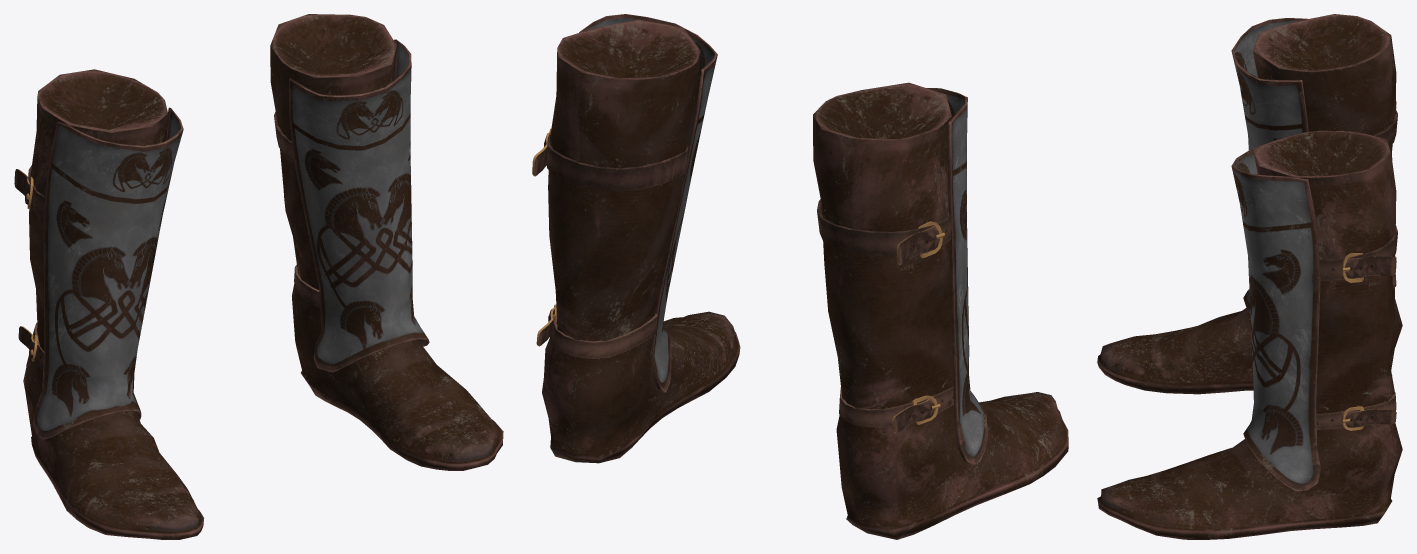
The model's file is cts_rohan_royal_guard_boots.fbx.
3 renders of one model, left to right at view 1: azimuth 30°, elevation 25°; view 2: azimuth 150°, elevation 25°; view 3: azimuth 270°, elevation 25°, orthographic. The views are drawn at different scales.
Parts seen in each view (by area): view 1: cts_rohan_royal_guard_boots; view 2: cts_rohan_royal_guard_boots; view 3: cts_rohan_royal_guard_boots.
Boxes of the visible parts, box(x1,y1,x2,y2) form: cts_rohan_royal_guard_boots: box(14, 14, 503, 539); cts_rohan_royal_guard_boots: box(532, 14, 1068, 539); cts_rohan_royal_guard_boots: box(1097, 14, 1402, 539).
Bounding box in the file's own units: 0.4833 × 0.3222 × 0.413.
Materials: 1 (1 with a texture image).
